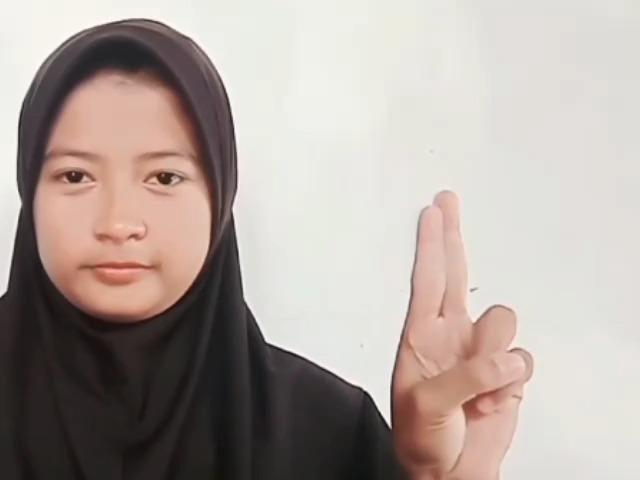U: (389, 188, 536, 480)
